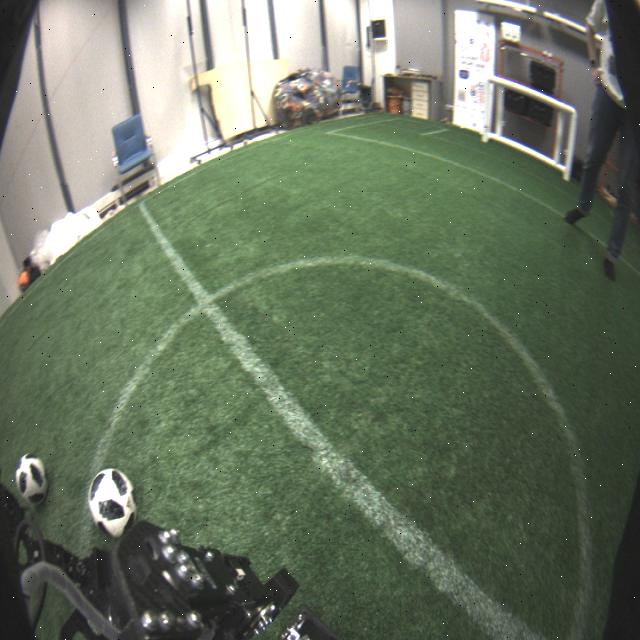ball: (87, 466, 138, 540), (15, 452, 50, 510)
goalpost: (480, 82, 496, 144), (563, 111, 577, 179)
